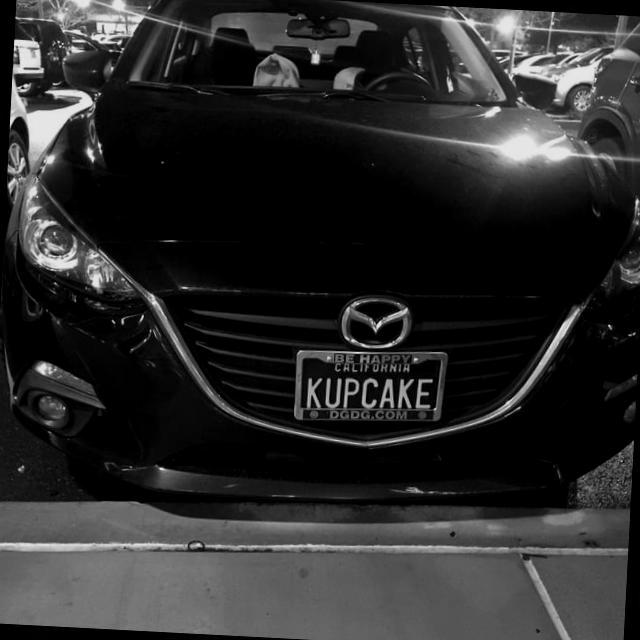LicensePlate: (292, 350, 449, 422)
